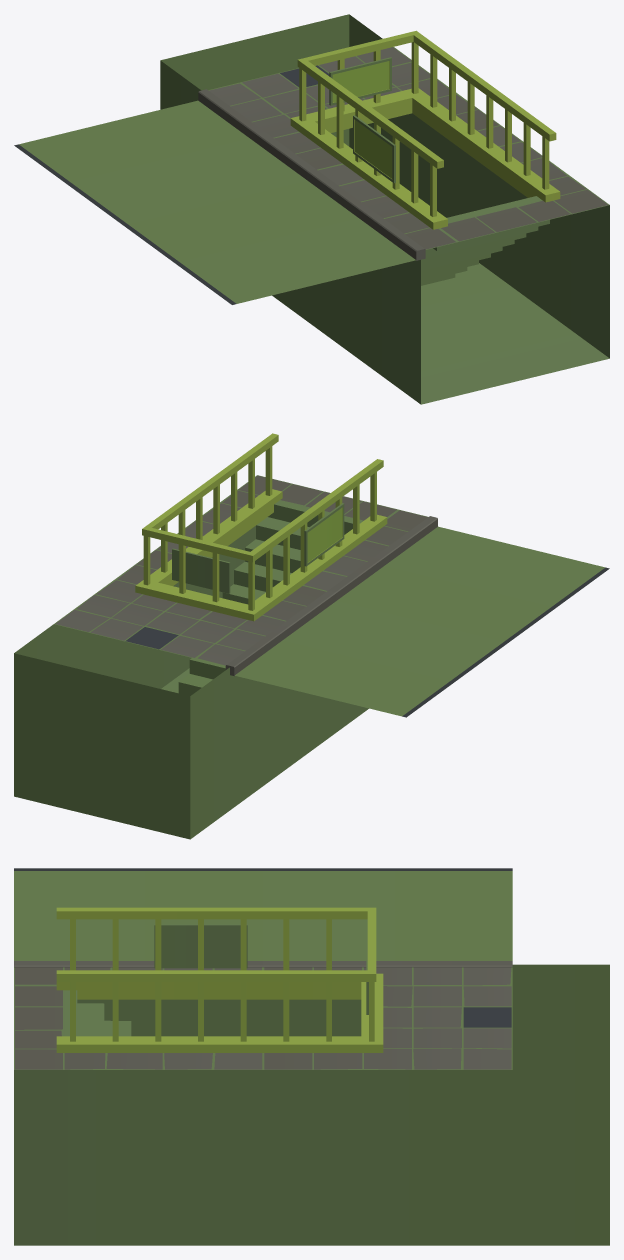
File: Road_44.fbx
3 views of the same model, one above another, from view 1: azimuth 30°, elevation 25°; view 2: azimuth 150°, elevation 25°; view 3: azimuth 270°, elevation 25° (orthographic). The views are drawn at different scales.
Parts seen in each view (by area): view 1: Road_44; view 2: Road_44; view 3: Road_44.
Part boxes in pixels (x1,y1,x2,y2): Road_44: [14, 14, 609, 404]; Road_44: [14, 433, 609, 839]; Road_44: [14, 868, 609, 1245].
Bounding box in the file's own units: 6 × 3.35 × 7.17.
